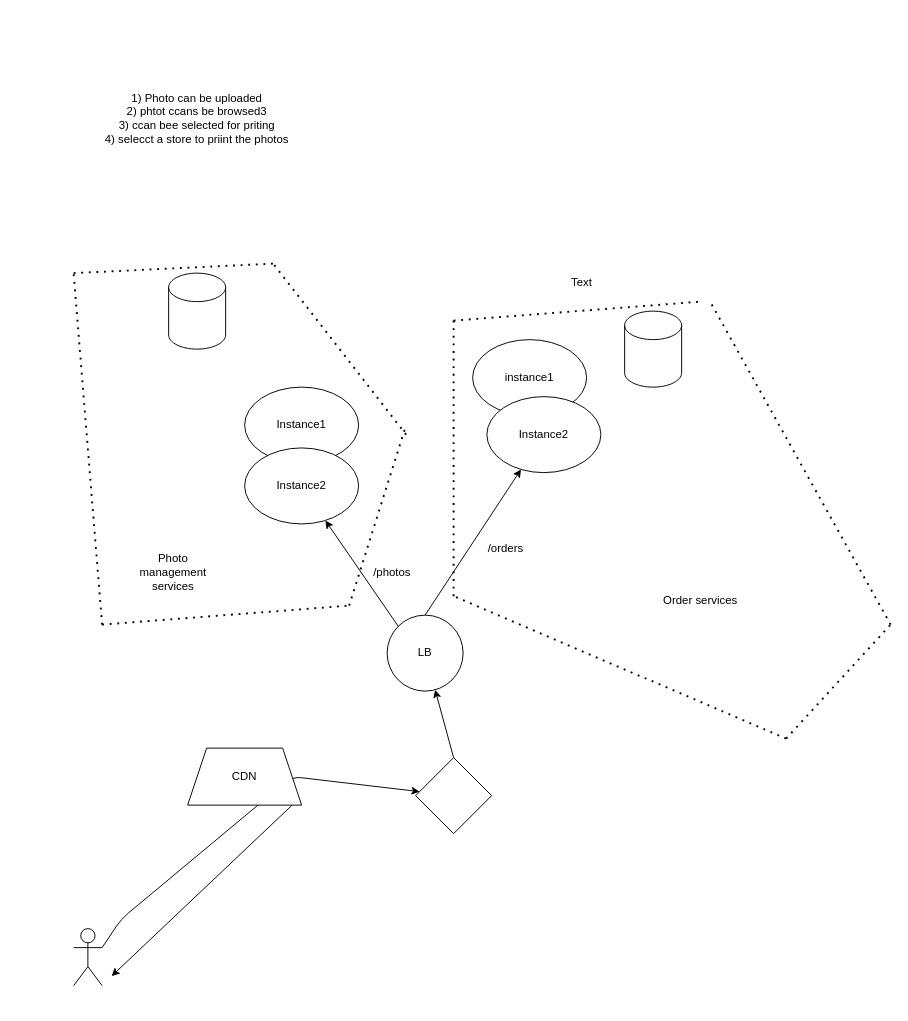
Image size: 908x1021. Some labels were removed from this diagram. Here are the shapes that lost their labels. From the top down, the centre of each, then its label:
At (453,795): "UI".
At (87,957): "Actor".
